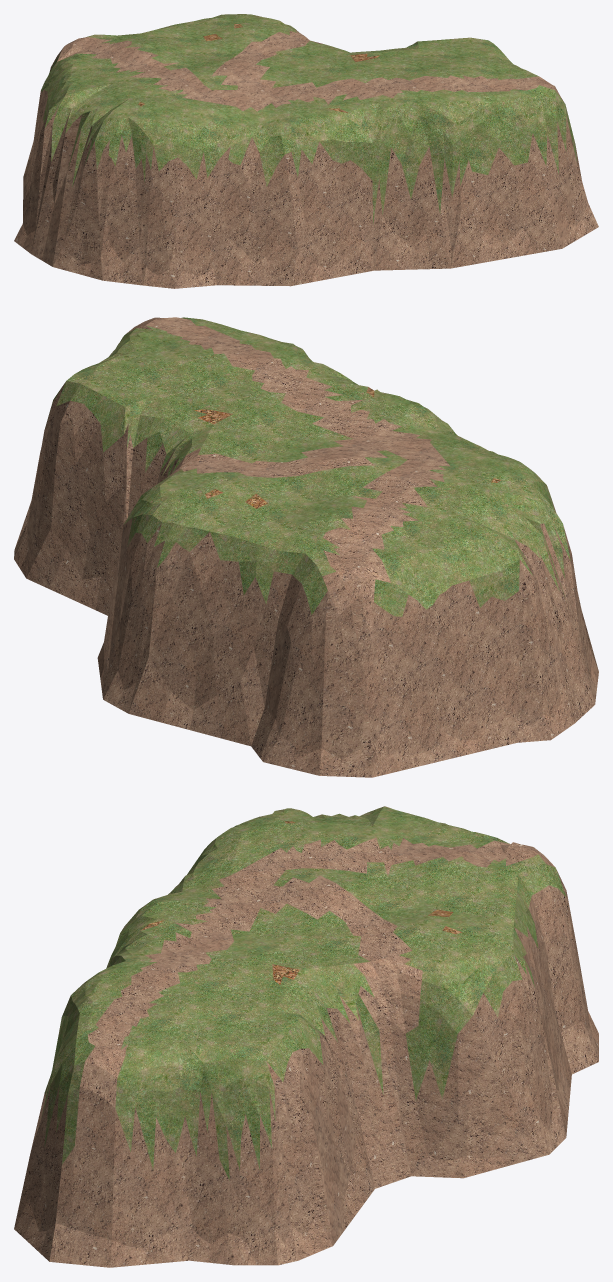
The model's file is test_island.glb.
3 renders of one model, top to bottom at view 1: azimuth 30°, elevation 25°; view 2: azimuth 150°, elevation 25°; view 3: azimuth 270°, elevation 25°, orthographic. The views are drawn at different scales.
Visible parts, largest first — view 1: Cube.001; view 2: Cube.001; view 3: Cube.001.
Part boxes in pixels (x1,y1,x2,y2): Cube.001: [14, 14, 598, 288]; Cube.001: [14, 317, 598, 777]; Cube.001: [14, 806, 598, 1267].
Size of the model in its own units: 230 by 70.31 by 187.
3 materials, 3 textured.
